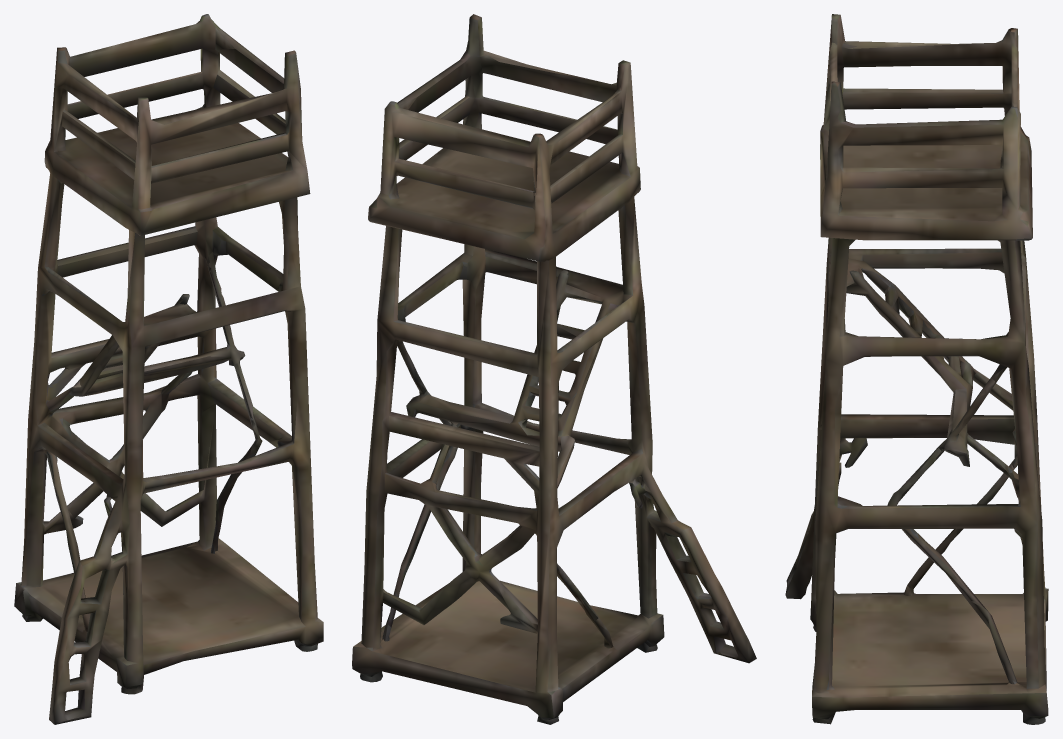
The model's file is plain-wood-scaffold-tower-v003.glb.
The picture shows the model from 3 angles, left to right: view 1: azimuth 30°, elevation 25°; view 2: azimuth 150°, elevation 25°; view 3: azimuth 270°, elevation 25°; orthographic projection. The views are drawn at different scales.
Visible parts, largest first — view 1: plain-wood-scaffold-tower; view 2: plain-wood-scaffold-tower; view 3: plain-wood-scaffold-tower.
Boxes of the visible parts, x1,y1,x2,y2 form: plain-wood-scaffold-tower: (14, 14, 323, 724); plain-wood-scaffold-tower: (352, 14, 756, 724); plain-wood-scaffold-tower: (785, 14, 1048, 724).
Bounding box in the file's own units: 1.56 × 3.15 × 1.18.
Materials: 1 (1 with a texture image).
